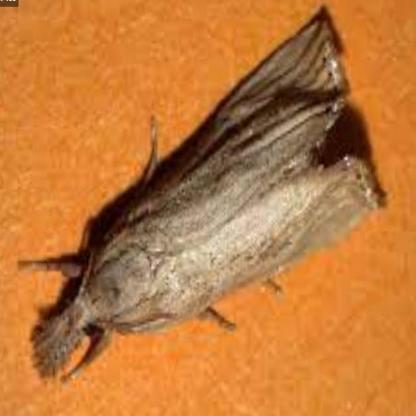stem-borer: (19, 10, 384, 382)
